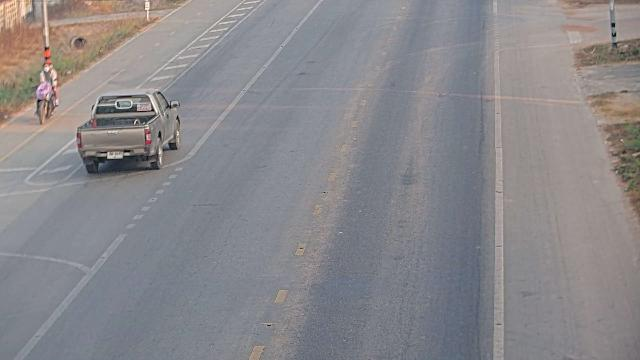pickup-truck: (75, 87, 181, 173)
